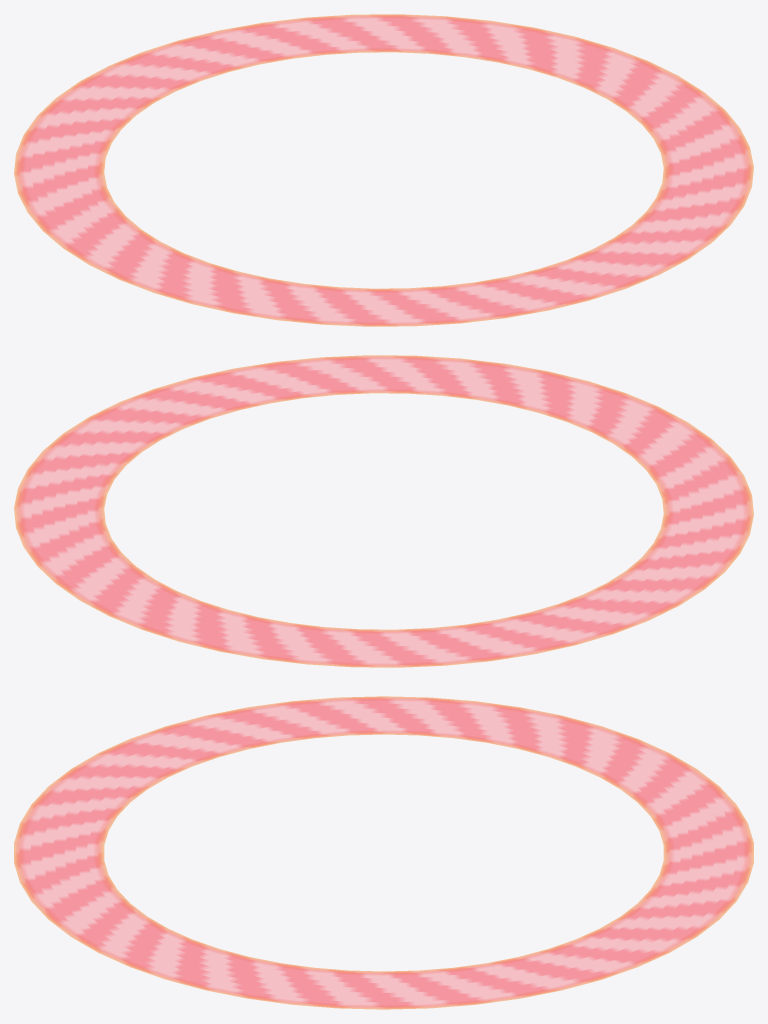
File: fx_mring1_warn.glb
3 views of the same model, one above another, from view 1: azimuth 30°, elevation 25°; view 2: azimuth 150°, elevation 25°; view 3: azimuth 270°, elevation 25° (orthographic).
Visible parts, largest first — view 1: fx_warn; view 2: fx_warn; view 3: fx_warn.
Boxes of the visible parts, x1=… form: fx_warn: x1=14, y1=14, x2=753, y2=326; fx_warn: x1=14, y1=355, x2=753, y2=667; fx_warn: x1=14, y1=696, x2=753, y2=1009.
Size of the model in its own units: 16.4 by 0 by 16.37.
Materials: 1 (1 with a texture image).
